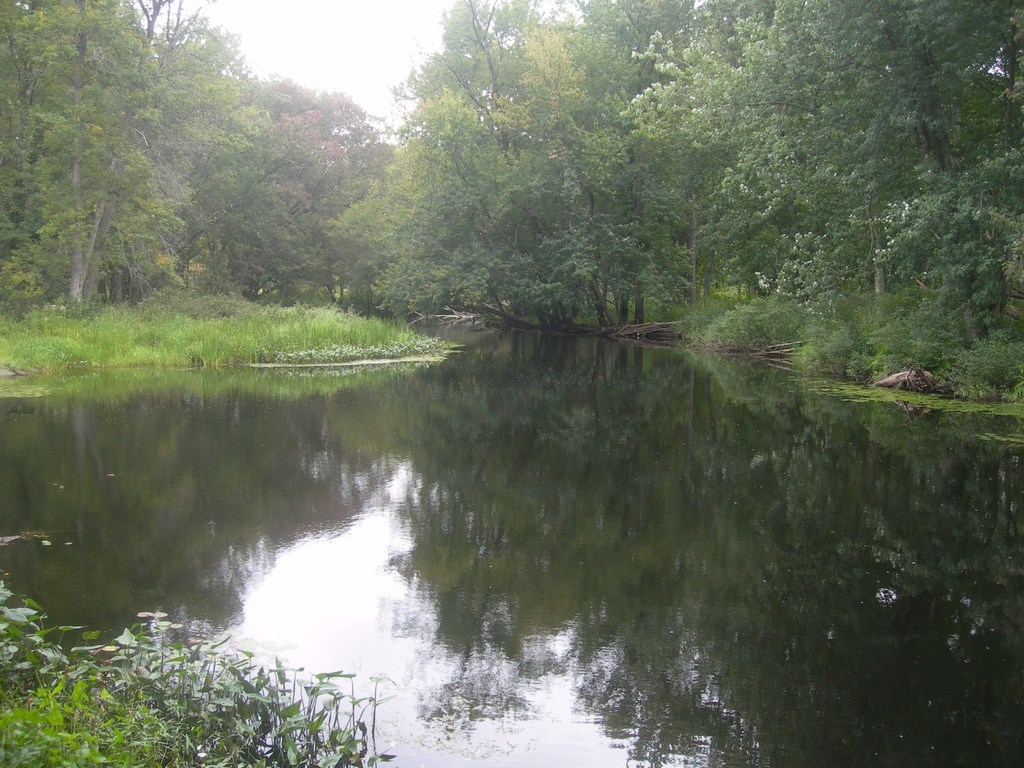Tree: (0, 0, 1018, 383)
